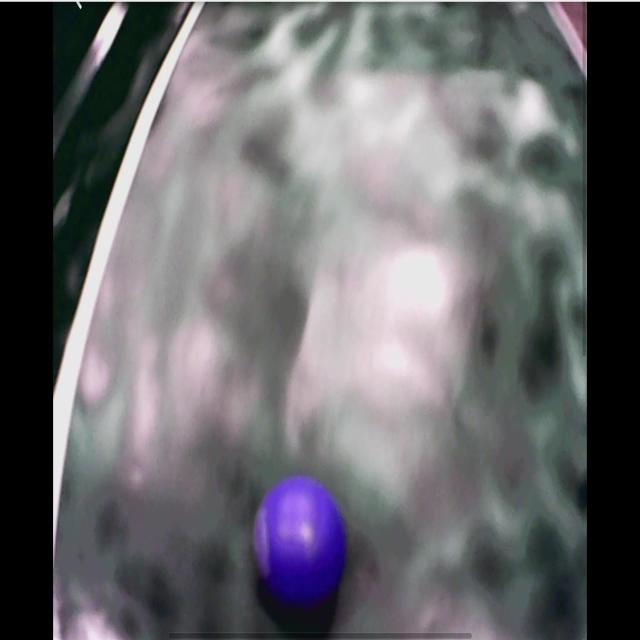ball: (256, 478, 346, 603)
